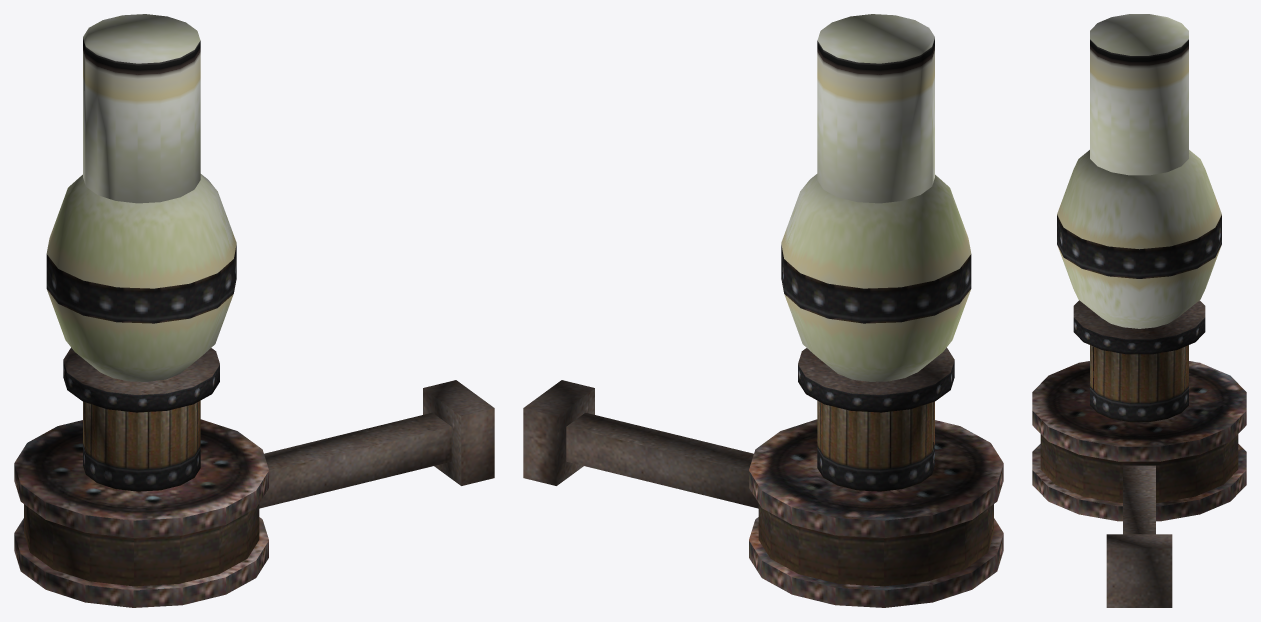
Rendered from mexlight1.fbx.
The picture shows the model from 3 angles, left to right: view 1: azimuth 30°, elevation 25°; view 2: azimuth 150°, elevation 25°; view 3: azimuth 270°, elevation 25°; orthographic projection. The views are drawn at different scales.
Parts seen in each view (by area): view 1: mexlight1; view 2: mexlight1; view 3: mexlight1.
Part boxes in pixels (x1,y1,x2,y2): mexlight1: [14, 14, 494, 607]; mexlight1: [523, 14, 1003, 607]; mexlight1: [1032, 14, 1246, 607].
Size of the model in its own units: 2650 by 2950 by 1300.
